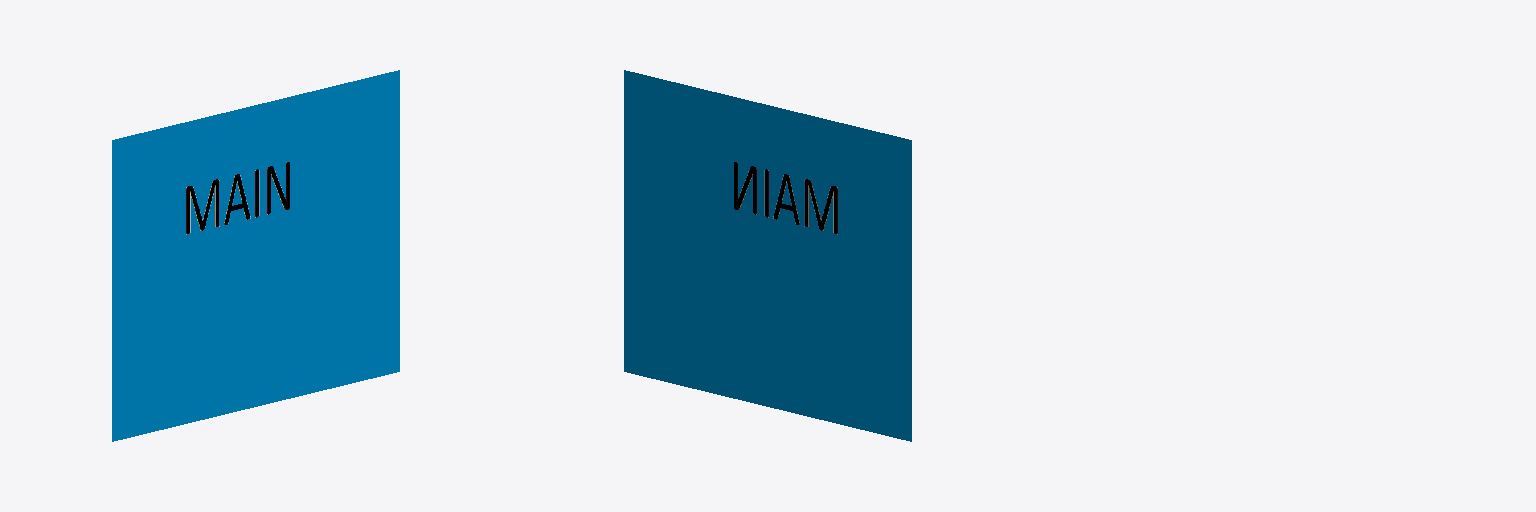
3 views of the same model, side by side, from view 1: azimuth 30°, elevation 25°; view 2: azimuth 150°, elevation 25°; view 3: azimuth 270°, elevation 25° (orthographic).
Parts seen in each view (by area): view 1: Cube; view 2: Cube; view 3: none.
Boxes of the visible parts, x1=… form: Cube: x1=112, y1=70, x2=399, y2=441; Cube: x1=624, y1=70, x2=911, y2=441.
Size of the model in its own units: 2 by 2 by 0.
1 materials, 1 textured.